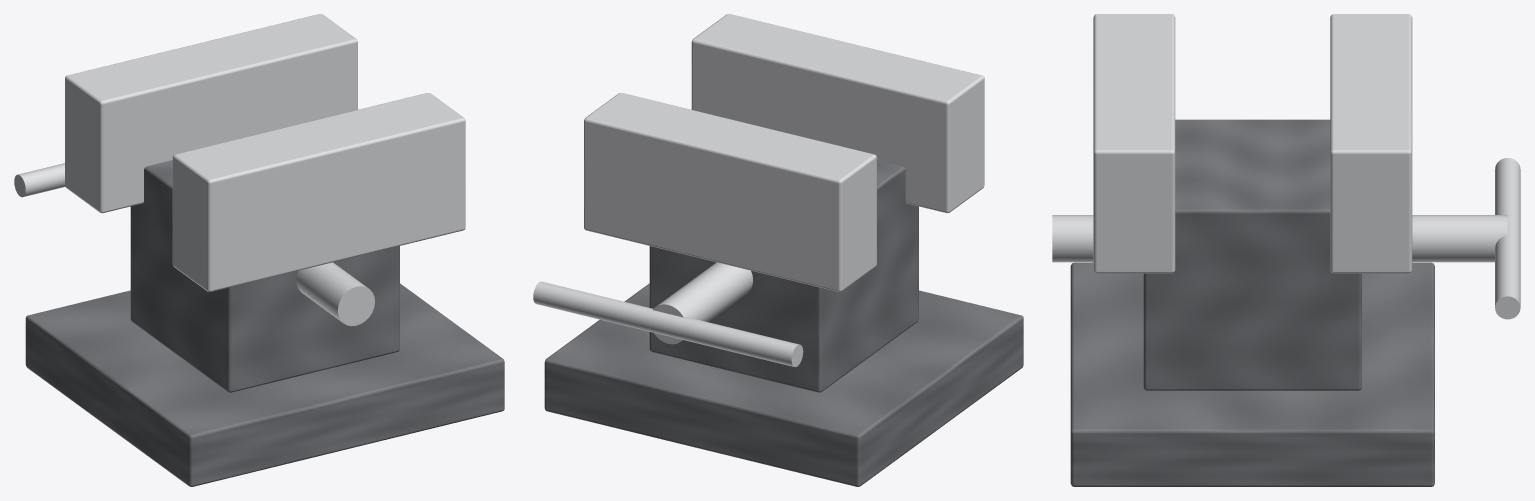
Rendered from fps-weapon-set-and-firing-range-bench-vice-0836ca04__19526.glb.
3 views of the same model, side by side, from view 1: azimuth 30°, elevation 25°; view 2: azimuth 150°, elevation 25°; view 3: azimuth 270°, elevation 25° (orthographic). The views are drawn at different scales.
Parts seen in each view (by area): view 1: bench-vice; view 2: bench-vice; view 3: bench-vice.
Part boxes in pixels (x1,y1,x2,y2): bench-vice: (14,14,504,486); bench-vice: (533,14,1023,486); bench-vice: (1052,14,1520,486).
Bounding box in the file's own units: 0.22 × 0.195 × 0.257.
2 materials, 1 textured.
